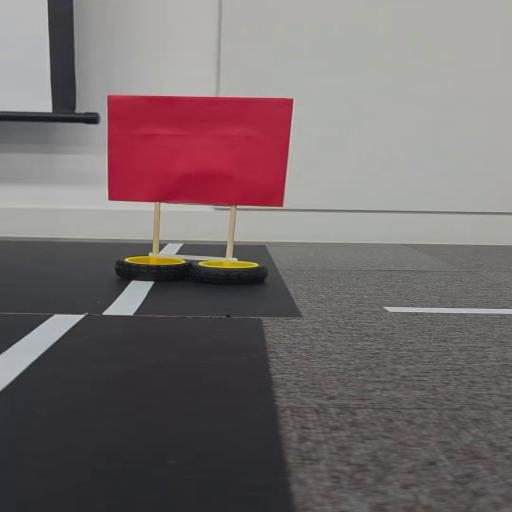Sign_A: (95, 87, 341, 291)
